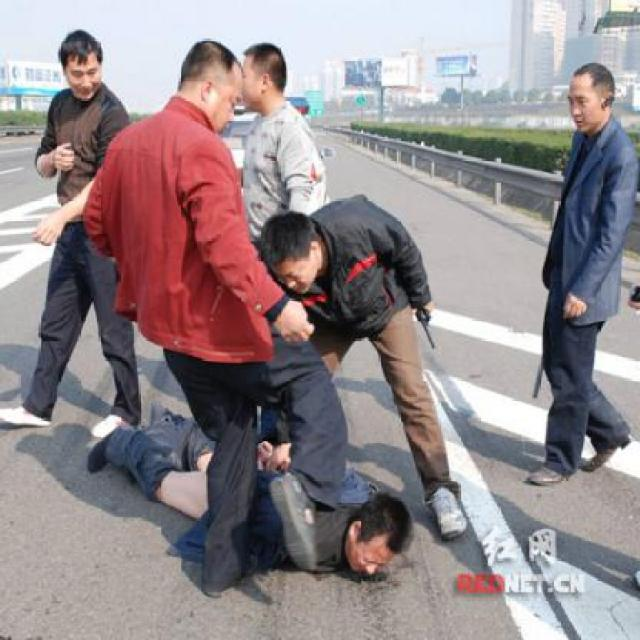fall: (67, 378, 439, 588)
